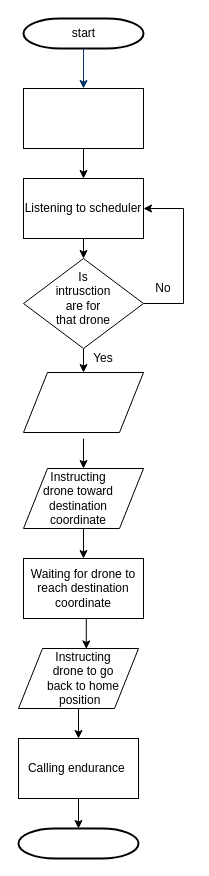
Image size: 209x876. Some labels were removed from this diagram. The shapes that lost their labels are listed below. From the top down, each one's centre as x and y in pixels, then its label:
At point (83, 118): "Connect to drone".
At point (83, 402): "Taking battery voltage from drone before arming".
At point (78, 843): "end".
